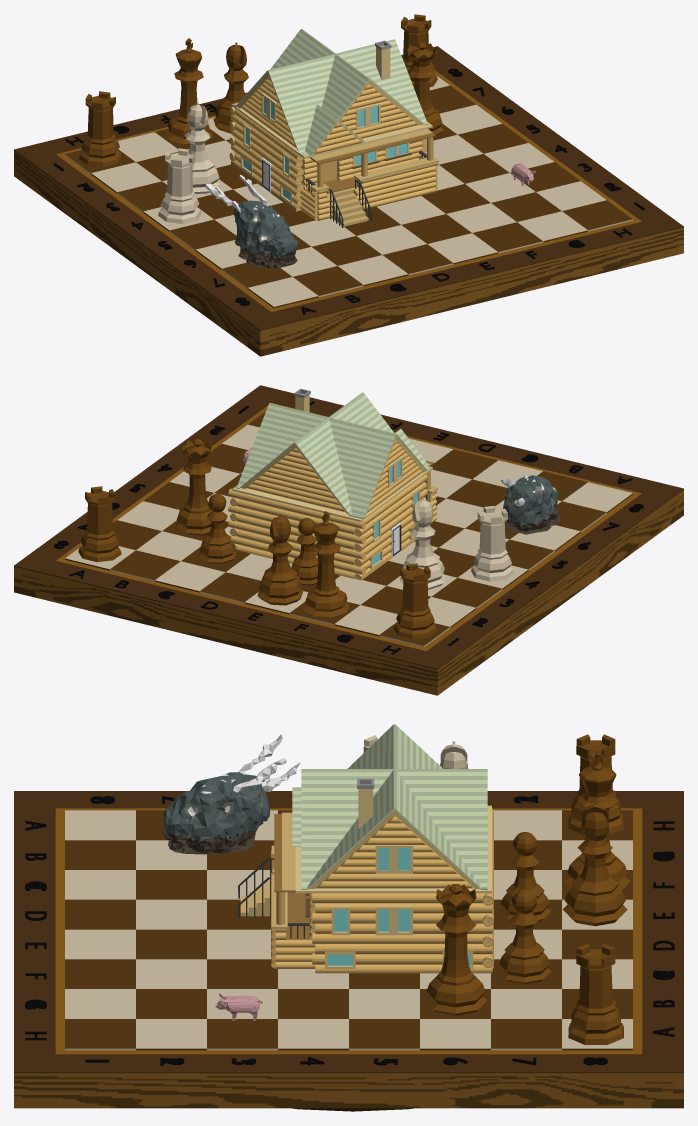
The picture shows the model from 3 angles, top to bottom: view 1: azimuth 30°, elevation 25°; view 2: azimuth 150°, elevation 25°; view 3: azimuth 270°, elevation 25°; orthographic projection. The views are drawn at different scales.
Parts seen in each view (by area): view 1: Cube.002, Cube.1516, OBJRANDOM_METEORITE; view 2: Cube.002, Cube.1516, OBJRANDOM_METEORITE; view 3: Cube.002, Cube.1516, OBJRANDOM_METEORITE, ANIMAL_CERDO.
Boxes of the visible parts, x1,y1,x2,y2 form: Cube.002: [14, 14, 683, 356]; Cube.1516: [229, 29, 439, 227]; OBJRANDOM_METEORITE: [205, 175, 297, 268]; Cube.002: [14, 385, 683, 695]; Cube.1516: [228, 388, 438, 580]; OBJRANDOM_METEORITE: [500, 475, 560, 534]; Cube.002: [14, 734, 683, 1108]; Cube.1516: [238, 724, 493, 973]; OBJRANDOM_METEORITE: [162, 734, 300, 854]; ANIMAL_CERDO: [215, 993, 262, 1020].
Size of the model in its own units: 3981 by 1551 by 4012.
Materials: 33 (3 with a texture image).
